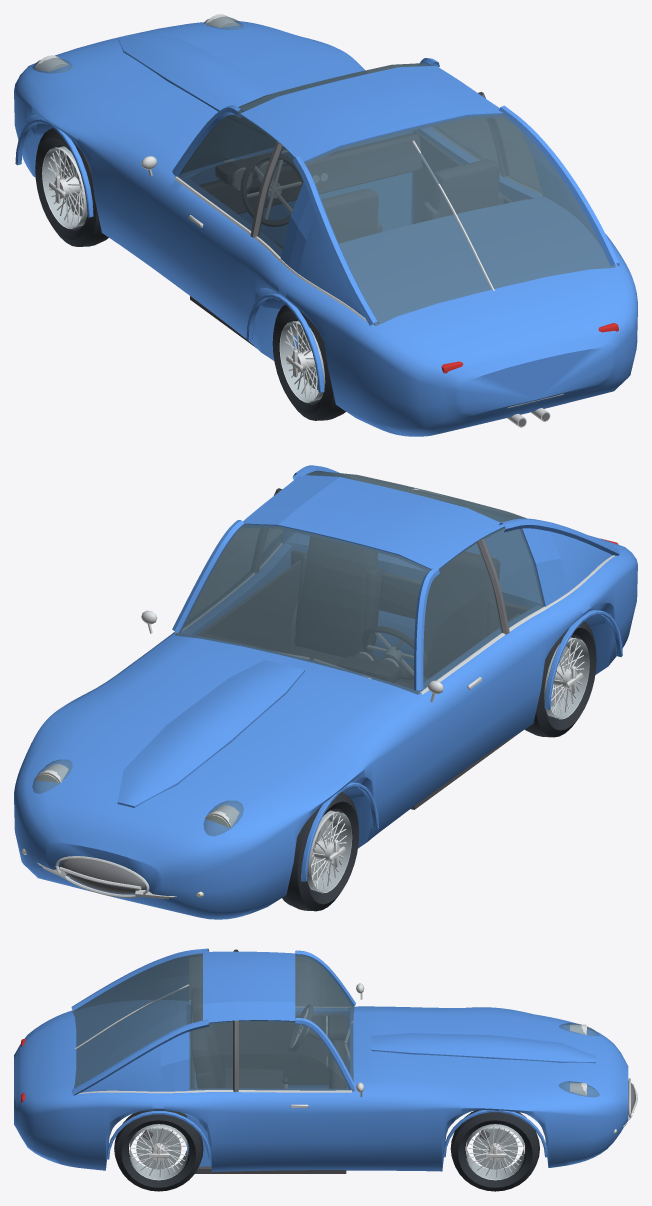
File: Marlow.fbx
3 renders of one model, top to bottom at view 1: azimuth 30°, elevation 25°; view 2: azimuth 150°, elevation 25°; view 3: azimuth 270°, elevation 25°, orthographic. The views are drawn at different scales.
Visible parts, largest first — view 1: Body__paint, Body__glass, Body__interior, Body__chrome, WheelFL__rubber, WheelRL__rubber, WheelFL__metal, WheelFL__chrome, WheelRL__metal, WheelRL__chrome, Body__engine, Steer__interior; view 2: Body__paint, Body__glass, Body__interior, Body__chrome, Body__engine, WheelFL__rubber, WheelRL__rubber, WheelFL__metal, WheelFL__chrome, WheelRL__metal, WheelRL__chrome, Steer__interior; view 3: Body__paint, Body__glass, Body__interior, WheelFR__rubber, WheelRR__rubber, Body__chrome, WheelFR__metal, WheelRR__metal, WheelFR__chrome, WheelRR__chrome, Body__engine.
Boxes of the visible parts, x1,y1,x2,y2 form: Body__paint: (14,21,637,436); Body__glass: (32,16,615,325); Body__interior: (190,131,527,348); Body__chrome: (35,14,615,427); WheelFL__rubber: (35,128,108,246); WheelRL__rubber: (272,304,345,420); WheelFL__metal: (42,146,87,228); WheelFL__chrome: (42,147,85,228); WheelRL__metal: (280,320,325,401); WheelRL__chrome: (279,321,322,402); Body__engine: (250,92,549,426); Steer__interior: (240,153,303,226); Body__paint: (14,465,637,919); Body__glass: (32,471,544,836); Body__interior: (197,536,529,809); Body__chrome: (35,488,615,899); Body__engine: (61,488,509,894); WheelFL__rubber: (282,792,358,911); WheelRL__rubber: (525,621,596,737); WheelFL__metal: (307,810,351,892); WheelFL__chrome: (308,811,352,893); WheelRL__metal: (544,637,589,718); WheelRL__chrome: (546,637,589,719); Steer__interior: (362,626,427,679); Body__paint: (14,948,628,1172); Body__glass: (72,953,599,1097); Body__interior: (191,988,347,1173); WheelFR__rubber: (450,1110,539,1191); WheelRR__rubber: (114,1110,203,1191); Body__chrome: (74,983,637,1127); WheelFR__metal: (466,1124,524,1179); WheelRR__metal: (130,1124,187,1179); WheelFR__chrome: (466,1126,524,1180); WheelRR__chrome: (129,1126,188,1180); Body__engine: (110,949,635,1143).
Size of the model in its own units: 1.81 by 1.34 by 4.52.
